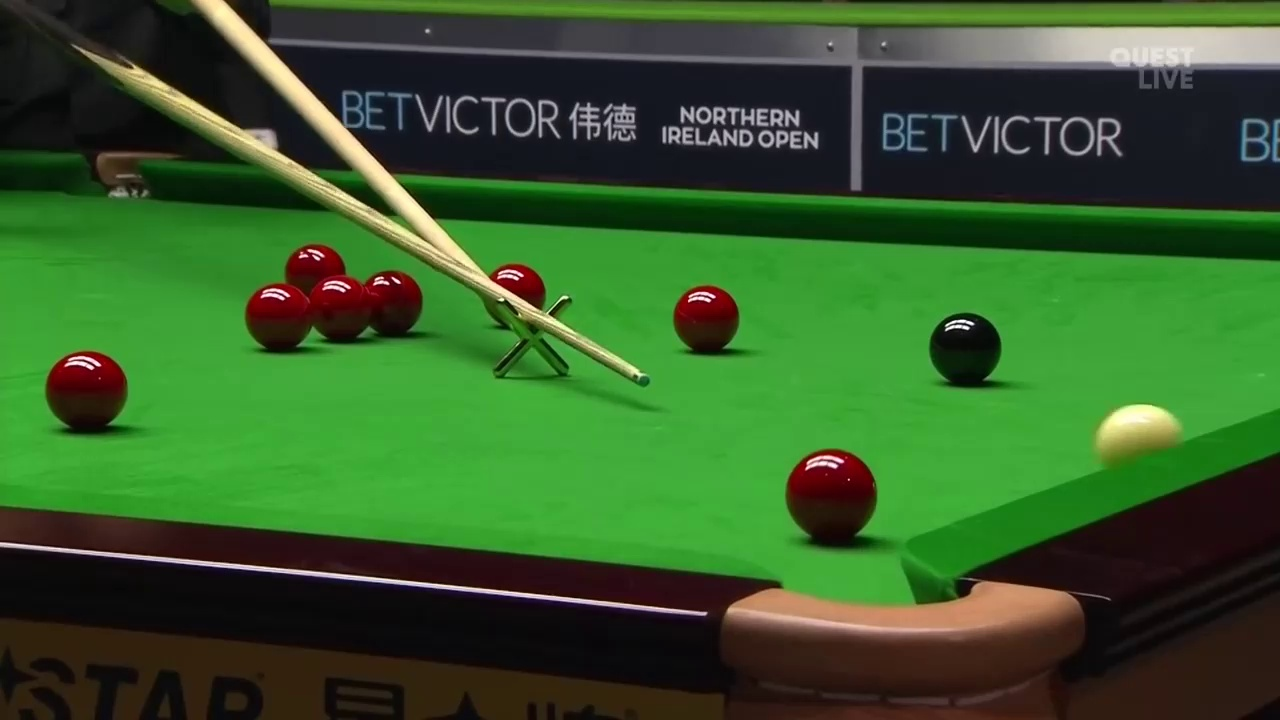black: (926, 312, 1003, 383)
red: (786, 450, 877, 538), (45, 350, 128, 425), (242, 286, 311, 349), (673, 283, 738, 349), (313, 274, 369, 343)
white: (1094, 406, 1183, 453)
